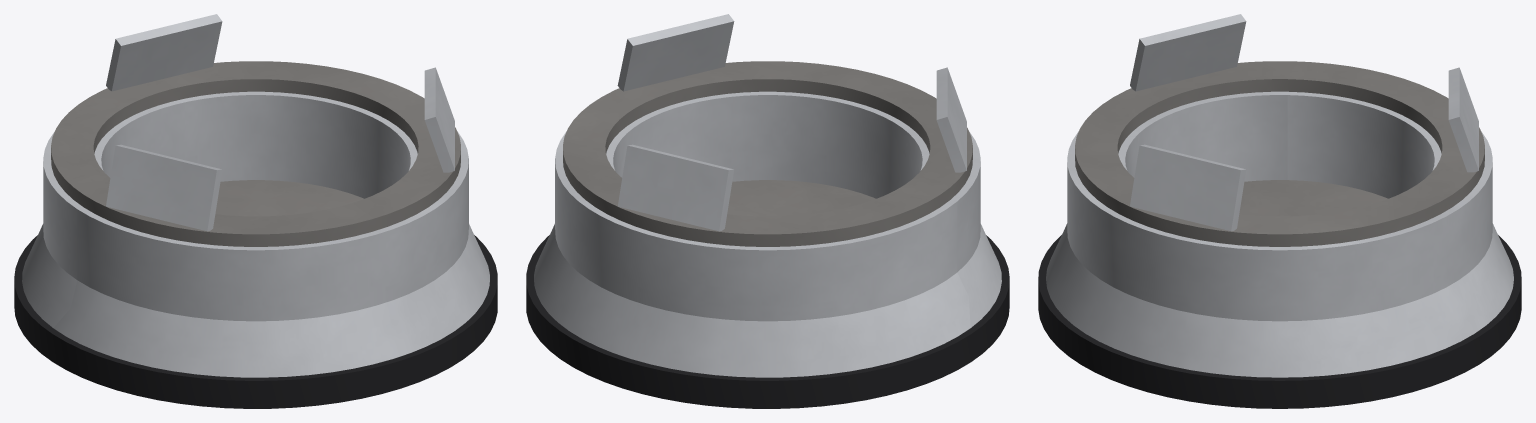
The model's file is station05_docking_port_s.glb.
3 views of the same model, side by side, from view 1: azimuth 30°, elevation 25°; view 2: azimuth 150°, elevation 25°; view 3: azimuth 270°, elevation 25° (orthographic).
Visible parts, largest first — view 1: port_body, capture_ring, base_flange, guide_petals, hatch; view 2: port_body, capture_ring, base_flange, guide_petals, hatch; view 3: port_body, capture_ring, base_flange, guide_petals, hatch.
Boxes of the visible parts, bbox=[...] form: port_body: bbox=[22, 91, 489, 377]; capture_ring: bbox=[51, 61, 460, 246]; base_flange: bbox=[14, 235, 497, 408]; guide_petals: bbox=[106, 14, 454, 231]; hatch: bbox=[215, 180, 363, 216]; port_body: bbox=[534, 91, 1001, 377]; capture_ring: bbox=[563, 61, 972, 246]; base_flange: bbox=[526, 235, 1009, 408]; guide_petals: bbox=[617, 14, 966, 231]; hatch: bbox=[727, 180, 875, 216]; port_body: bbox=[1046, 91, 1513, 377]; capture_ring: bbox=[1075, 61, 1484, 246]; base_flange: bbox=[1038, 235, 1521, 408]; guide_petals: bbox=[1130, 14, 1478, 231]; hatch: bbox=[1239, 180, 1387, 216].
Size of the model in its own units: 1.25 by 0.6122 by 1.25.
3 materials, 2 textured.
